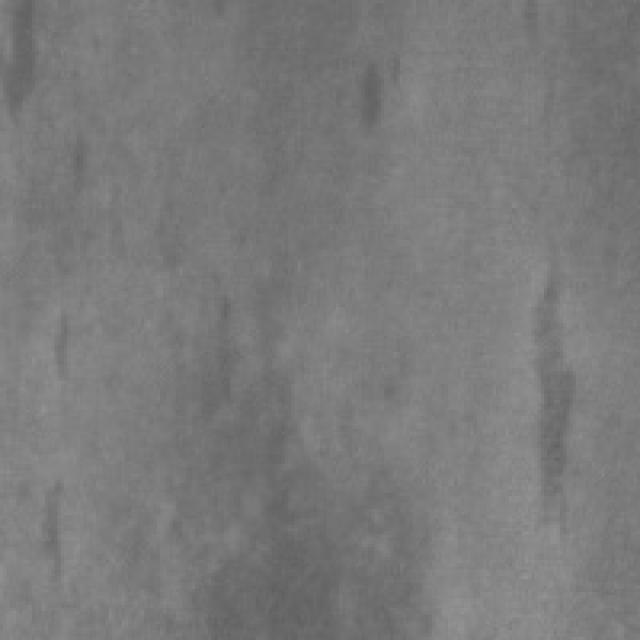inclusion: (182, 346, 416, 627), (515, 250, 589, 538), (38, 476, 96, 602), (349, 45, 419, 147), (6, 0, 61, 115)
